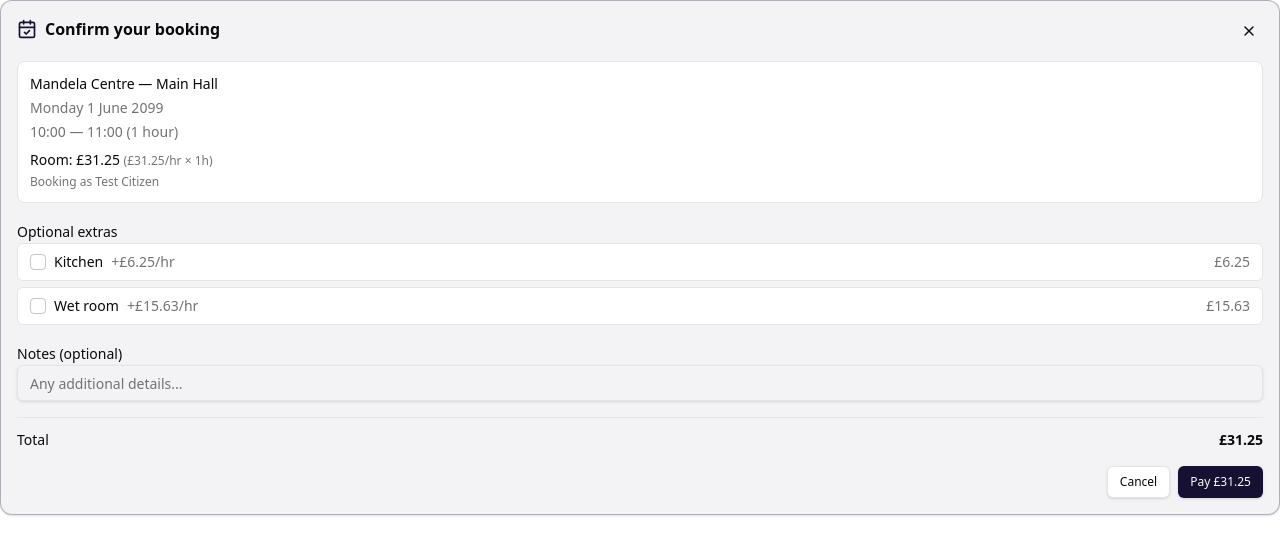
Test: CitizenBookingForm › toggles an extra off again
The width and height of the screenshot is (1280, 533).
Click the button "Kitchen +£6.25/hr £6.25": {"x": 79, "y": 262} x1=17 y1=243 x2=1263 y2=281
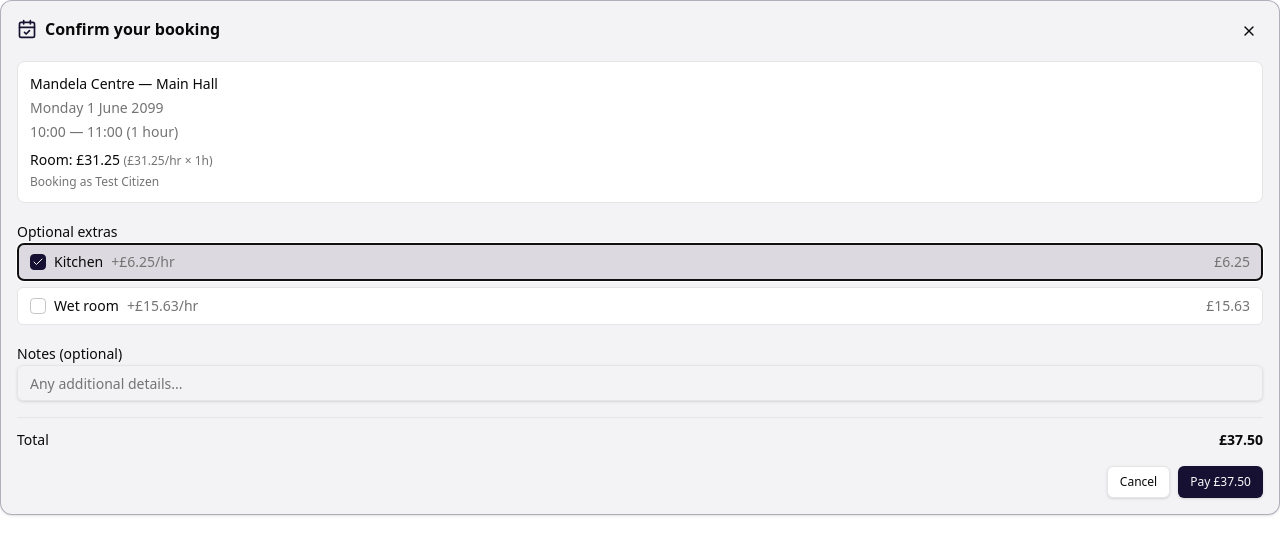
Click the button "Kitchen +£6.25/hr £6.25": {"x": 79, "y": 262} x1=17 y1=243 x2=1263 y2=281
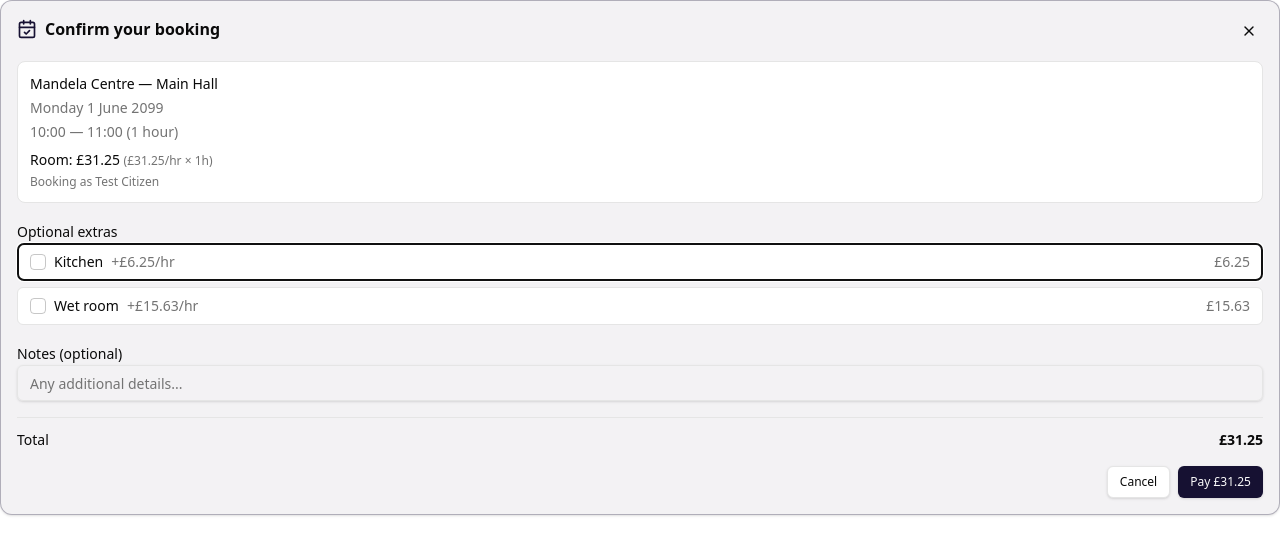
expect the button "Pay £31.25" is shown: met, box x1=1178 y1=466 x2=1263 y2=498
